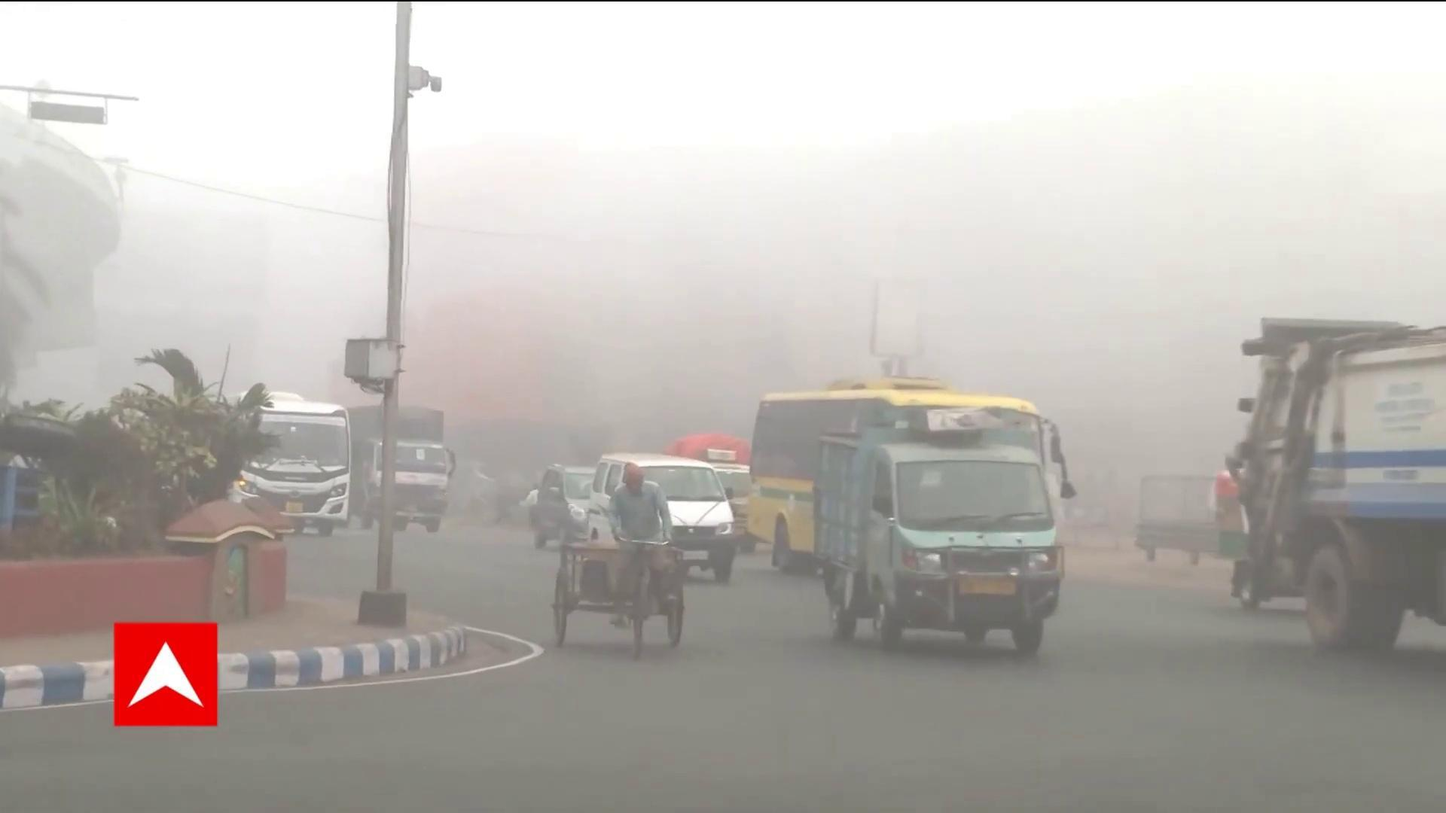Bus: (744, 388, 1049, 582), (218, 387, 354, 542)
Car: (591, 445, 737, 580)
Truck: (807, 428, 1052, 646), (346, 402, 459, 540)
